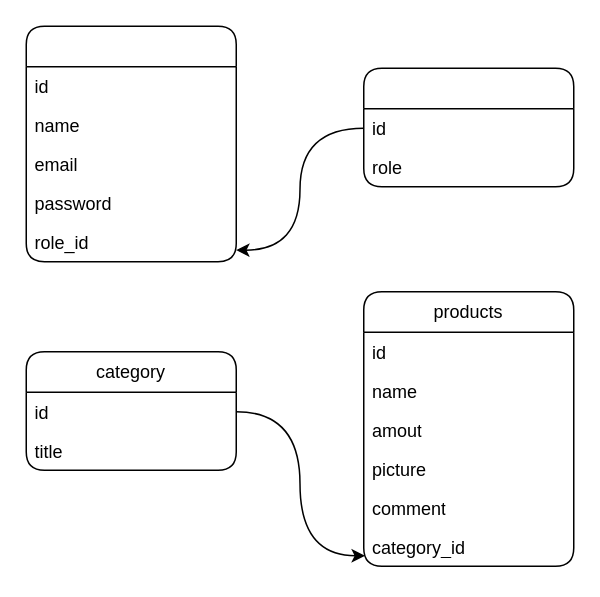
This 600x597 diagram has some shape labels left out. The box of each missing label's shape, as (x1, y1, x2, y2) in pixels:
roles: (362, 67, 574, 187)
users: (25, 25, 236, 262)
